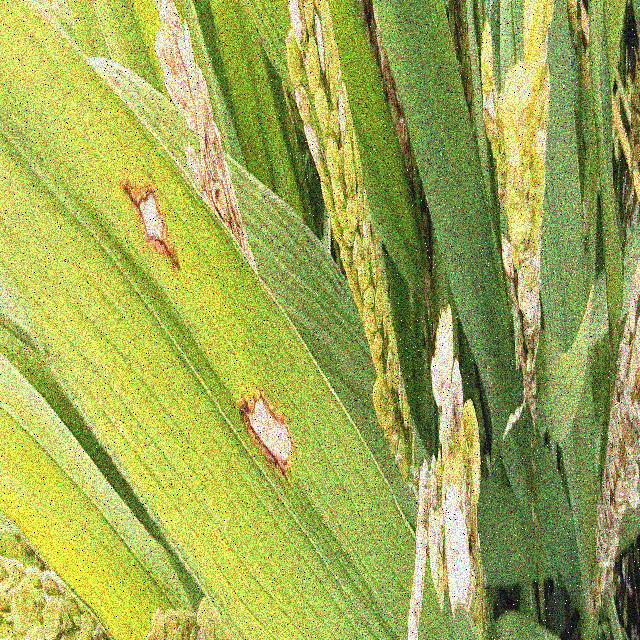LEAF BLAST: (125, 181, 179, 268), (240, 392, 293, 475)
